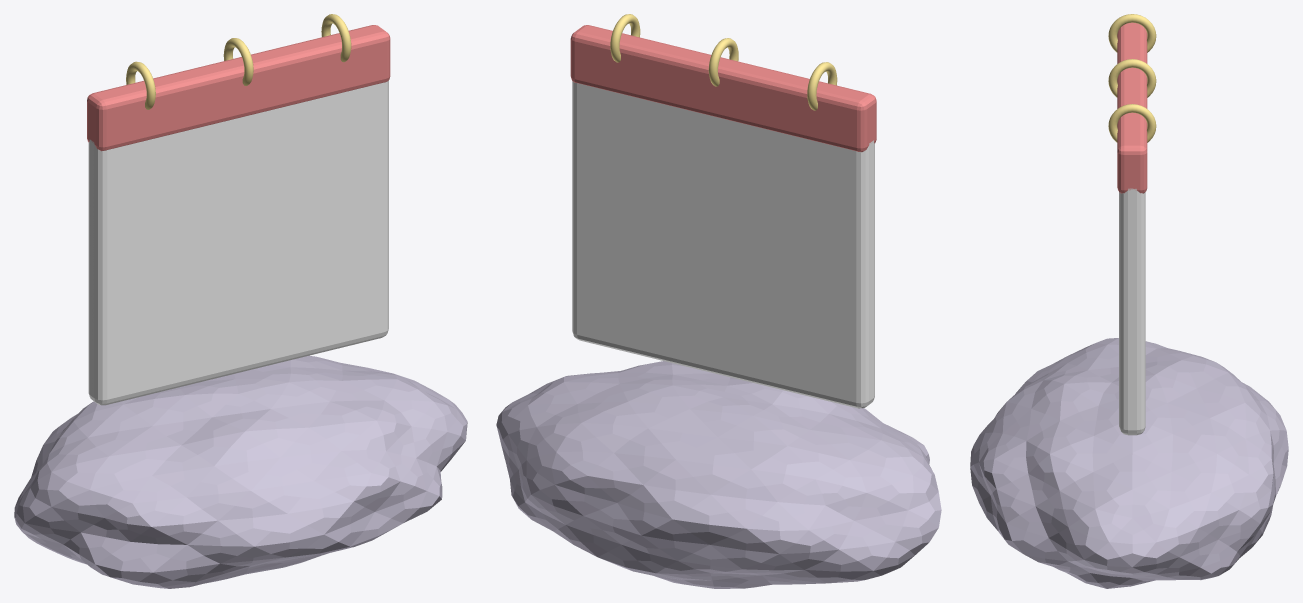
Rendered from place_calendar.glb.
3 views of the same model, side by side, from view 1: azimuth 30°, elevation 25°; view 2: azimuth 150°, elevation 25°; view 3: azimuth 270°, elevation 25° (orthographic). The views are drawn at different scales.
Visible parts, largest first — view 1: Board, Base, Top, Ring1.2, Ring-1.2, Ring0; view 2: Board, Base, Top, Ring-1.2, Ring0, Ring1.2; view 3: Base, Board, Top, Ring-1.2, Ring0, Ring1.2.
Part boxes in pixels (x1,y1,x2,y2): Board: [88, 80, 388, 405]; Base: [14, 355, 467, 588]; Top: [87, 25, 390, 151]; Ring1.2: [321, 14, 351, 62]; Ring-1.2: [126, 61, 155, 109]; Ring0: [223, 38, 253, 85]; Board: [572, 81, 874, 408]; Base: [496, 361, 941, 588]; Top: [570, 25, 876, 152]; Ring-1.2: [807, 62, 837, 110]; Ring0: [708, 38, 738, 86]; Ring1.2: [610, 14, 640, 62]; Base: [970, 338, 1288, 588]; Board: [1119, 188, 1145, 435]; Top: [1117, 22, 1147, 193]; Ring-1.2: [1108, 14, 1156, 52]; Ring0: [1108, 59, 1156, 97]; Ring1.2: [1108, 104, 1156, 142].
Bounding box in the file's own units: 5.3 × 6 × 3.59.
